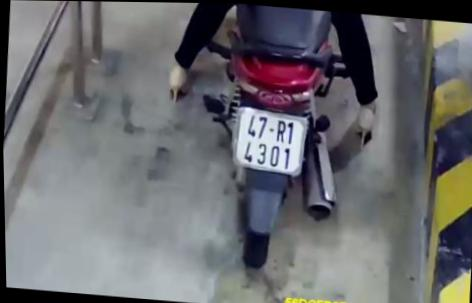LP: (228, 103, 310, 177)
